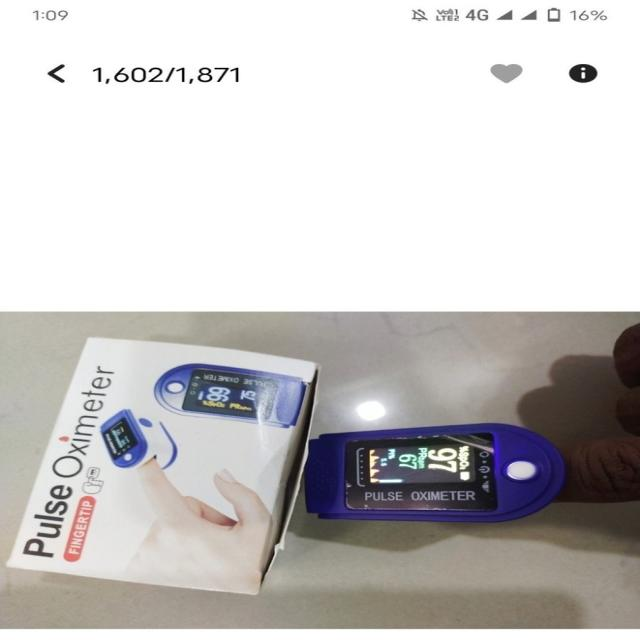oximeter: (306, 405, 576, 557)
